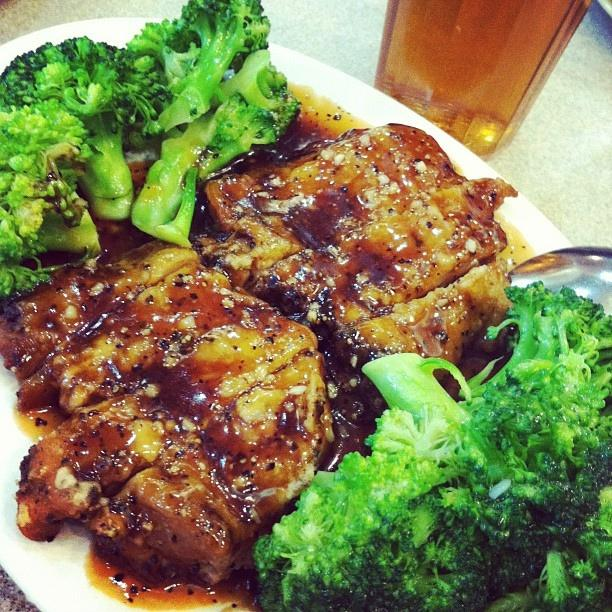broccoli: (253, 404, 565, 612), (456, 282, 612, 584), (0, 35, 172, 221), (0, 98, 101, 296), (157, 0, 271, 131), (210, 49, 300, 139), (191, 92, 277, 182), (156, 167, 199, 248), (530, 550, 584, 612)
